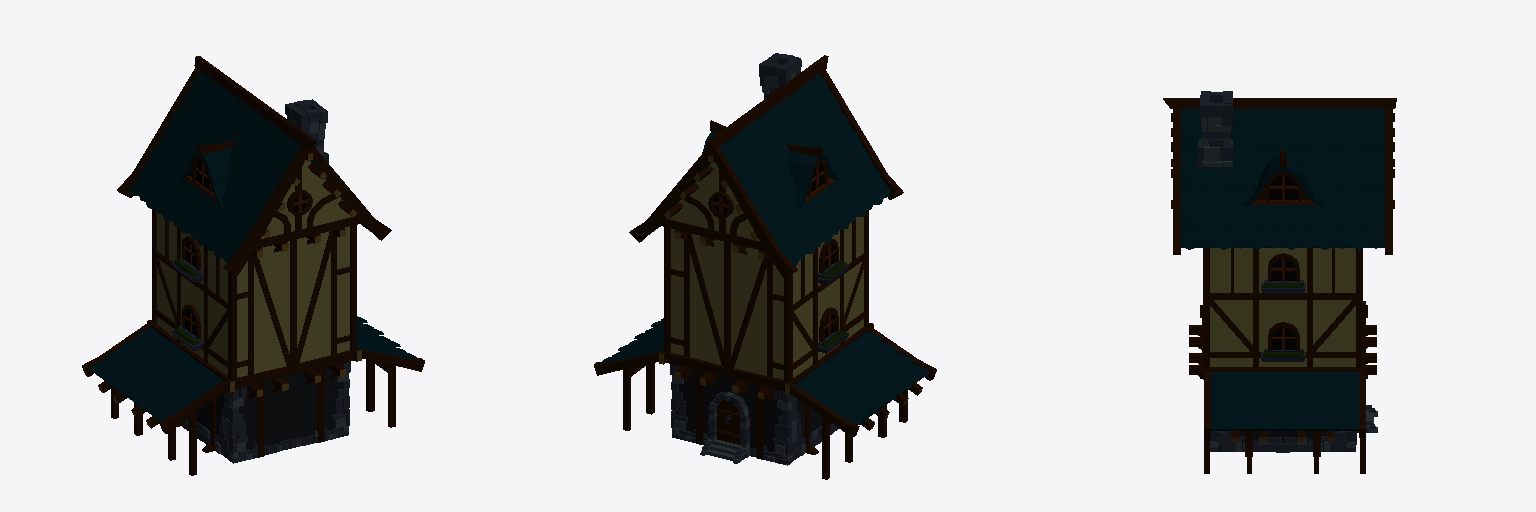
The model's file is Mill_Cube.obj.
3 renders of one model, left to right at view 1: azimuth 30°, elevation 25°; view 2: azimuth 150°, elevation 25°; view 3: azimuth 270°, elevation 25°, orthographic.
Parts seen in each view (by area): view 1: Mill_Cube.128; view 2: Mill_Cube.128; view 3: Mill_Cube.128.
Boxes of the visible parts, <box> form: Mill_Cube.128: <box>82,56,424,475</box>; Mill_Cube.128: <box>594,53,936,479</box>; Mill_Cube.128: <box>1163,91,1396,473</box>.
Bounding box in the file's own units: 3.4 × 4.14 × 2.62.